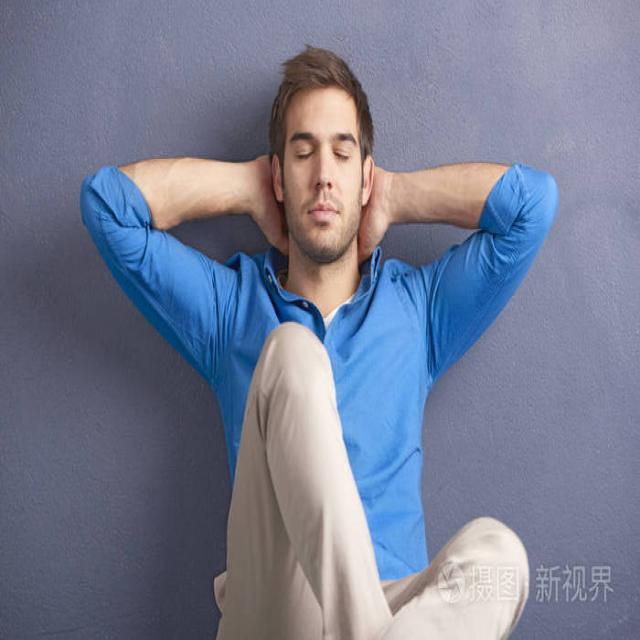Closed: (294, 141, 314, 162), (331, 144, 351, 164)
